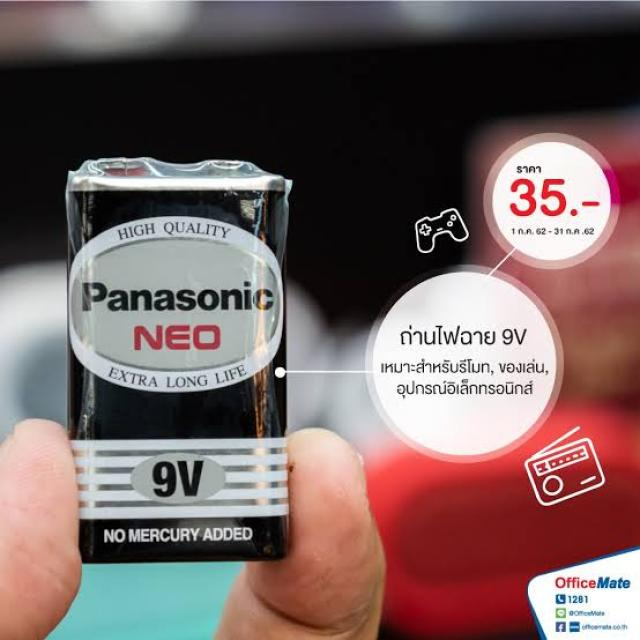battery: (65, 127, 302, 565)
